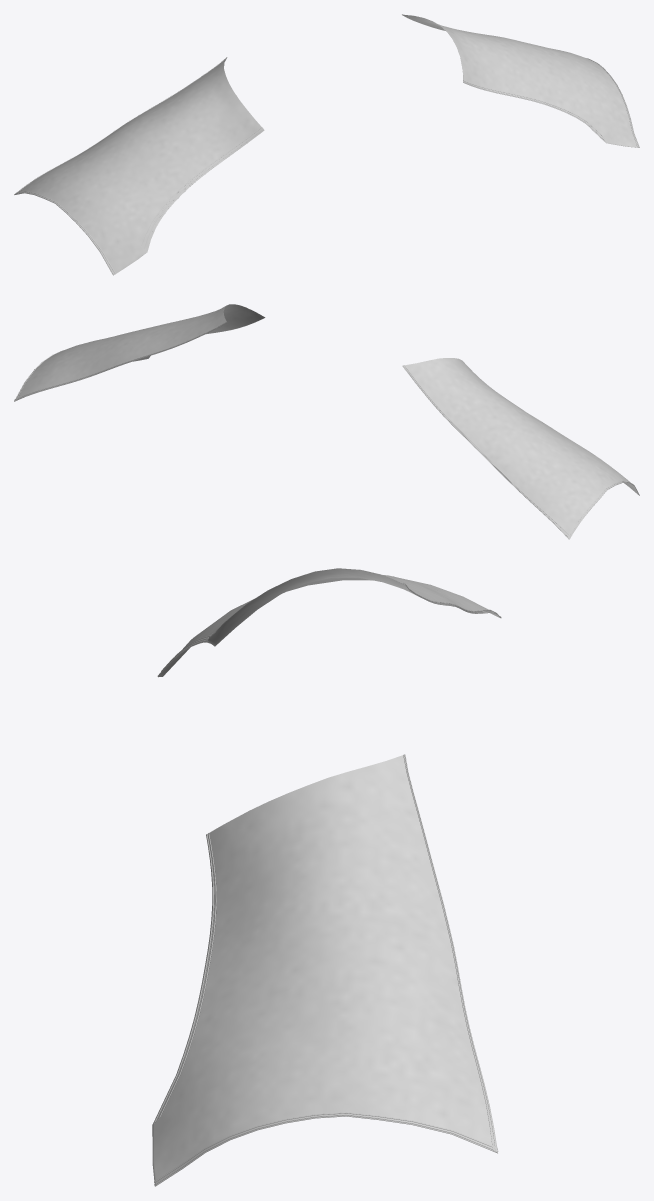
Rendered from Jac_Decor_TOP.glb.
3 views of the same model, one above another, from view 1: azimuth 30°, elevation 25°; view 2: azimuth 150°, elevation 25°; view 3: azimuth 270°, elevation 25° (orthographic). The views are drawn at different scales.
Visible parts, largest first — view 1: Jac_Decor_TOP1, Rope1; view 2: Jac_Decor_TOP1, Rope1; view 3: Jac_Decor_TOP1, Rope1.
Boxes of the visible parts, left/top/right/bottom form: Jac_Decor_TOP1: left=14, top=14, right=639, bottom=275; Rope1: left=14, top=14, right=639, bottom=275; Jac_Decor_TOP1: left=14, top=304, right=639, bottom=539; Rope1: left=14, top=321, right=639, bottom=538; Jac_Decor_TOP1: left=152, top=568, right=501, bottom=1186; Rope1: left=154, top=583, right=501, bottom=1185.
Size of the model in its own units: 0.7855 by 0.1788 by 0.2142.
2 materials, 2 textured.
